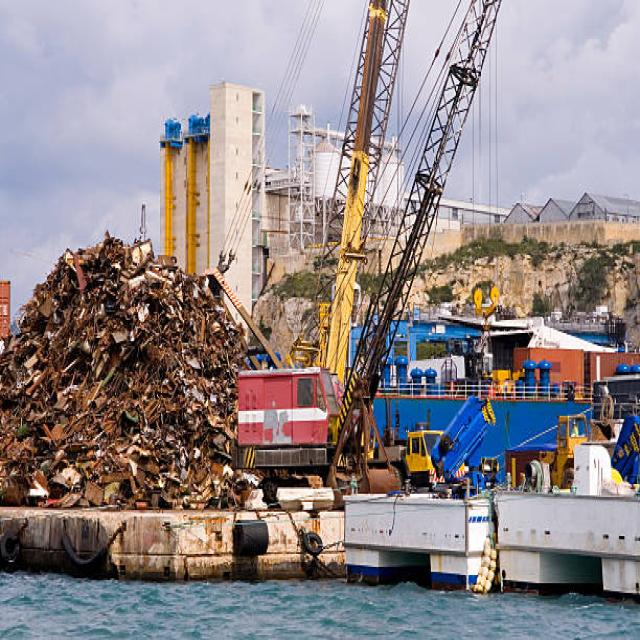cardboard: (25, 280, 229, 508)
